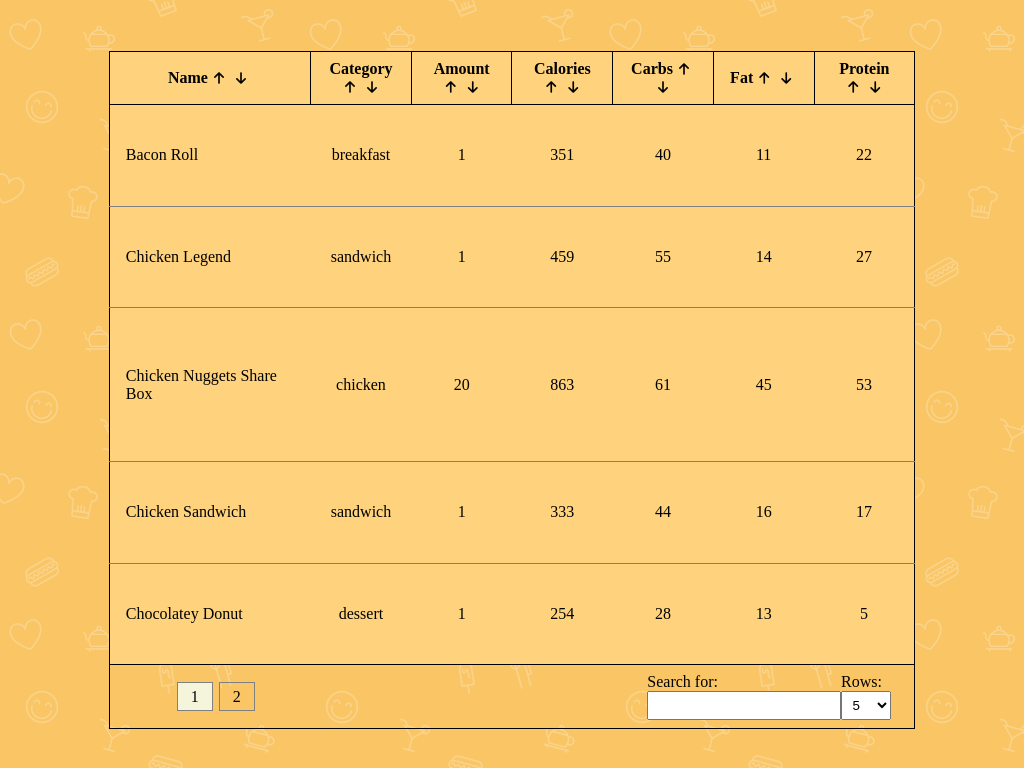
MaterialTable tests › check if text is shown when user types in search bar
This screenshot has width=1024, height=768.
In the field labelled "Search for:": (744, 706) top-left (647, 691), bottom-right (841, 720), type "burger"
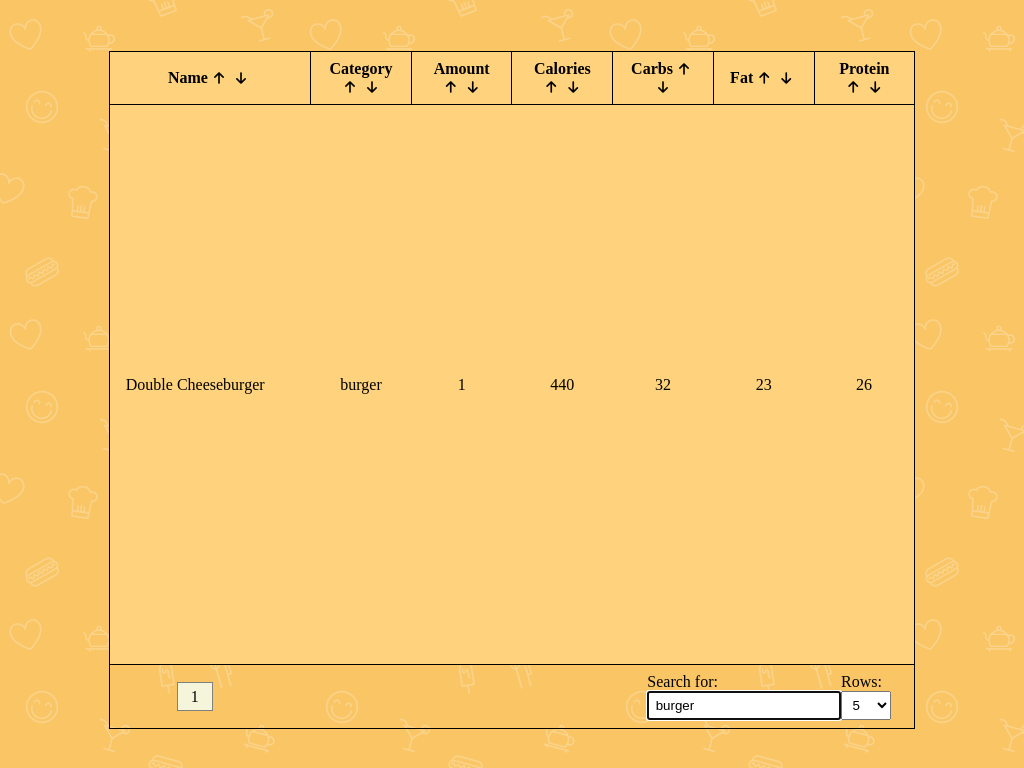
Expected: the text "burger" is shown, top-left (311, 104), bottom-right (411, 665)
